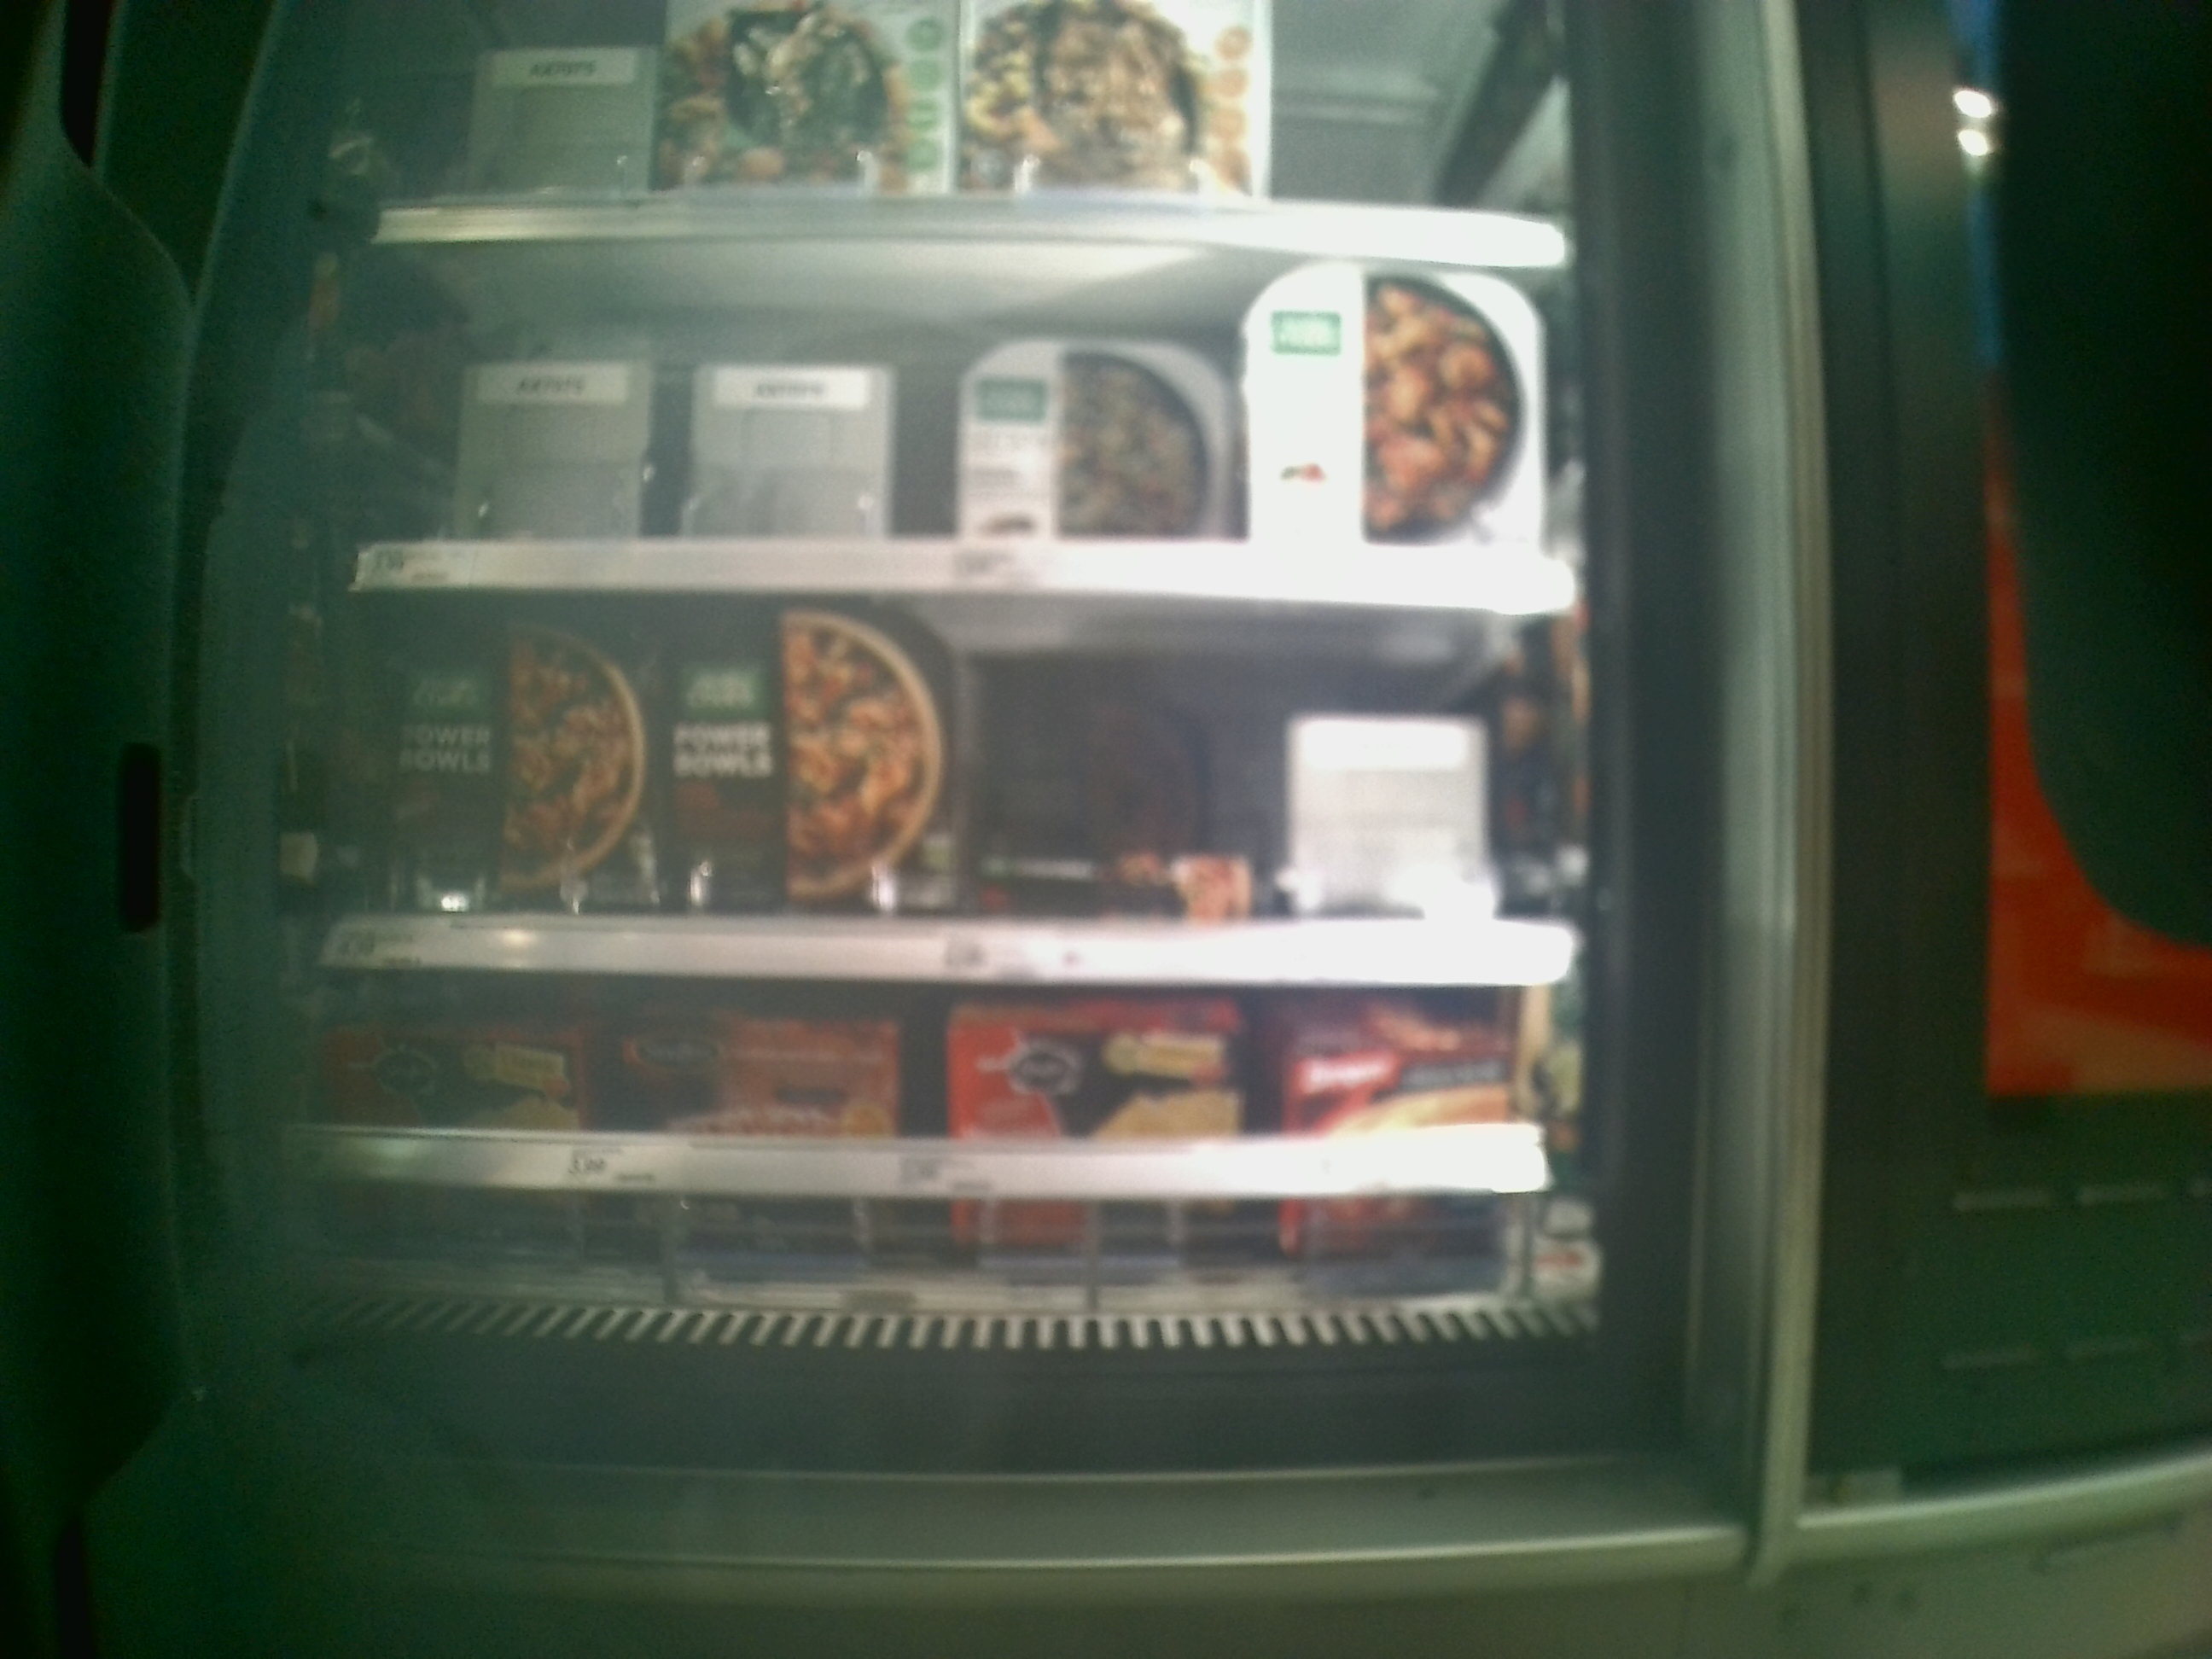shelf: (308, 962, 1599, 1364), (348, 582, 1595, 997), (350, 211, 1571, 612)
